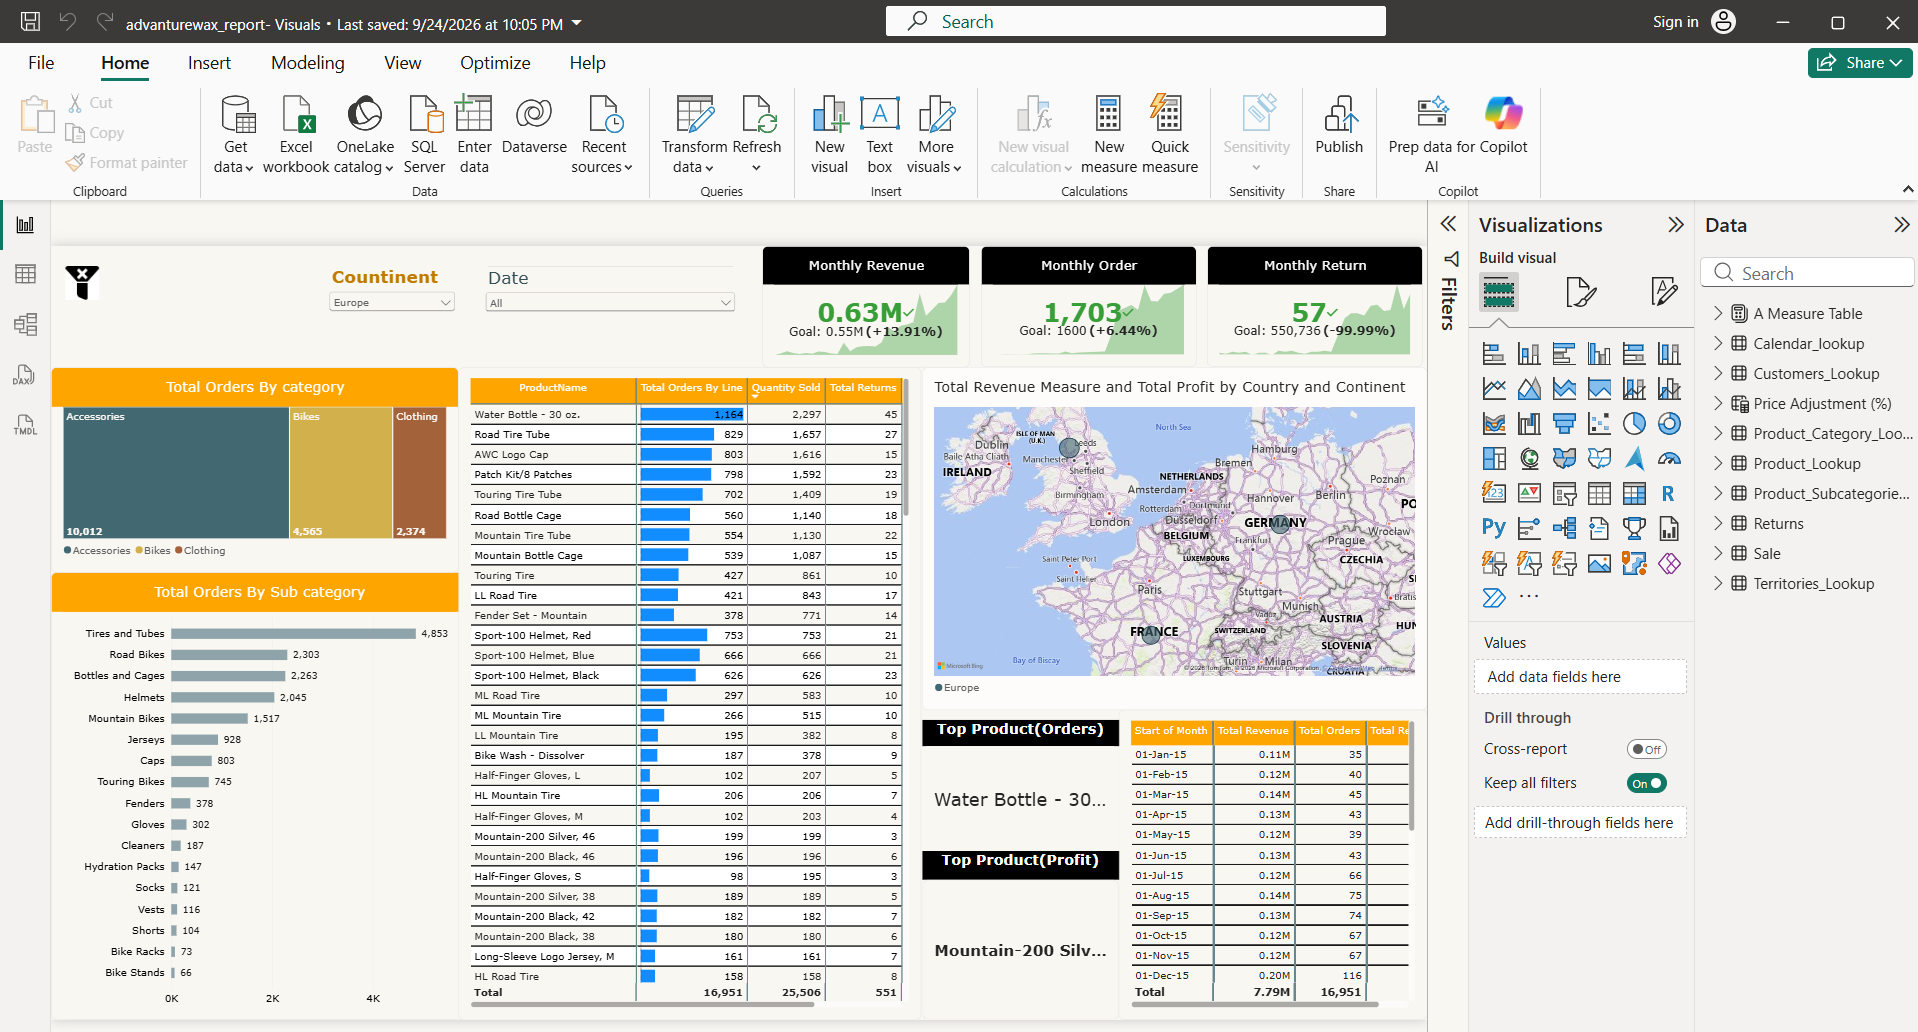

The dashboard page shown, as its layout file describes it:
{"tool":"powerbi","page":{"name":"Summary EXC","canvas":[1920,1080],"ordinal":0},"visuals":[{"type":"barChart","title":"Total Orders By Sub category","fields":{"Category":["Product_Subcategories_Lookup.SubcategoryName"],"Y":["A Measure Table.Total Orders By Line"]},"box":[0,455.6,581.2,624.9],"z":1},{"type":"treemap","title":"Total Orders By  category","fields":{"Group":["Product_Category_Lookup.CategoryName"],"Values":["A Measure Table.Total Orders By Line"]},"box":[0,169.3,569,286.3],"z":2},{"type":"pivotTable","fields":{"Rows":["Product_Lookup.ProductName"],"Values":["A Measure Table.Total Orders By Line","A Measure Table.Quantity Sold","A Measure Table.Total Returns","A Measure Table.Return Rate"]},"box":[569,169.3,645.8,911.1],"z":3},{"type":"slicer","fields":{"Values":["Territories_Lookup.Continent"]},"box":[384,27.9,185,71.6],"z":4},{"type":"tableEx","fields":{"Values":["Calendar_lookup.Start of Month","A Measure Table.Total Revenue Measure","A Measure Table.Total Orders By Line","A Measure Table.Total Returns"]},"box":[1488.9,647.6,431.1,432.9],"z":7},{"type":"kpi","title":"Monthly Revenue","fields":{"Goal":["A Measure Table.Prev Month Revenue"],"Indicator":["A Measure Table.Total Revenue Measure"],"TrendLine":["Calendar_lookup.Start of Month"]},"box":[993.2,0,289.7,169.3],"z":8},{"type":"kpi","title":"Monthly Return","fields":{"Goal":["A Measure Table.Prev Month Revenue"],"Indicator":["A Measure Table.Total Returns"],"TrendLine":["Calendar_lookup.Start of Month"]},"box":[1613.7,0,300.5,168.8],"z":9},{"type":"kpi","title":"Monthly Order","fields":{"Goal":["A Measure Table.Prev Month Orders"],"Indicator":["A Measure Table.Total Orders By Line"],"TrendLine":["Calendar_lookup.Start of Month"]},"box":[1298.1,0,300.5,168.8],"z":10},{"type":"cardVisual","title":"Top Product(Orders)","fields":{"Data":["Min(Product_Lookup.ProductName)"]},"box":[1214.8,661.5,274,183.3],"z":11},{"type":"cardVisual","title":"Top Product(Profit)","fields":{"Data":["Min(Product_Lookup.ProductName)"]},"box":[1214.8,844.8,274,235.6],"z":12},{"type":"map","fields":{"Category":["Territories_Lookup.Country"],"Series":["Territories_Lookup.Continent"],"Size":["A Measure Table.Total Revenue Measure"]},"box":[1214.8,169.3,705.2,478.3],"z":13},{"type":"slicer","fields":{"Values":["Calendar_lookup.Date"]},"box":[602.2,27.9,357.8,97.7],"z":14},{"type":"image","box":[0,27.2,86.9,47.1],"z":15}]}

Visuals, with their boxes on the page's 1920x1080 design canvas (x1, y1, x2, y2). These are canvas units, not pixel positions in the 1918x1032 screenshot, which may show the page scaled, cropped or inside an application window:
"Total Orders By Sub category" barChart: 0/456/581/1080
"Total Orders By  category" treemap: 0/169/569/456
pivotTable - Product_Lookup.ProductName x A Measure Table.Total Orders By Line: 569/169/1215/1080
slicer - Territories_Lookup.Continent: 384/28/569/100
tableEx - Calendar_lookup.Start of Month x A Measure Table.Total Revenue Measure: 1489/648/1920/1080
"Monthly Revenue" kpi: 993/0/1283/169
"Monthly Return" kpi: 1614/0/1914/169
"Monthly Order" kpi: 1298/0/1599/169
"Top Product(Orders)" cardVisual: 1215/662/1489/845
"Top Product(Profit)" cardVisual: 1215/845/1489/1080
map - Territories_Lookup.Country x Territories_Lookup.Continent: 1215/169/1920/648
slicer - Calendar_lookup.Date: 602/28/960/126
image: 0/27/87/74
